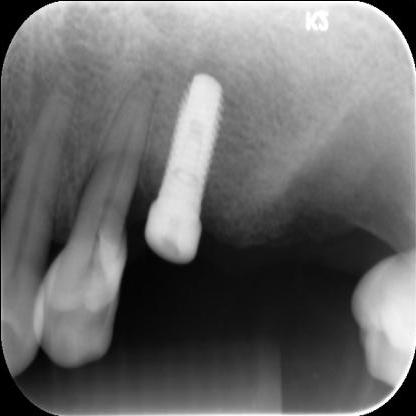Bego: (152, 57, 237, 212)
